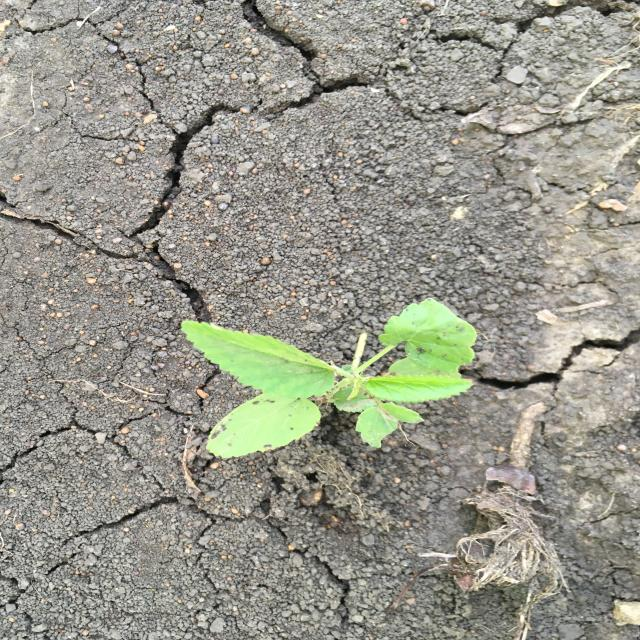PricklySida: (177, 296, 480, 460)
